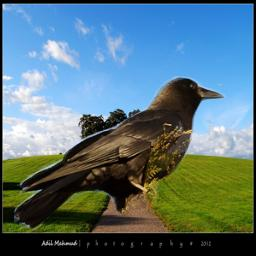Crow: (14, 72, 228, 236)
